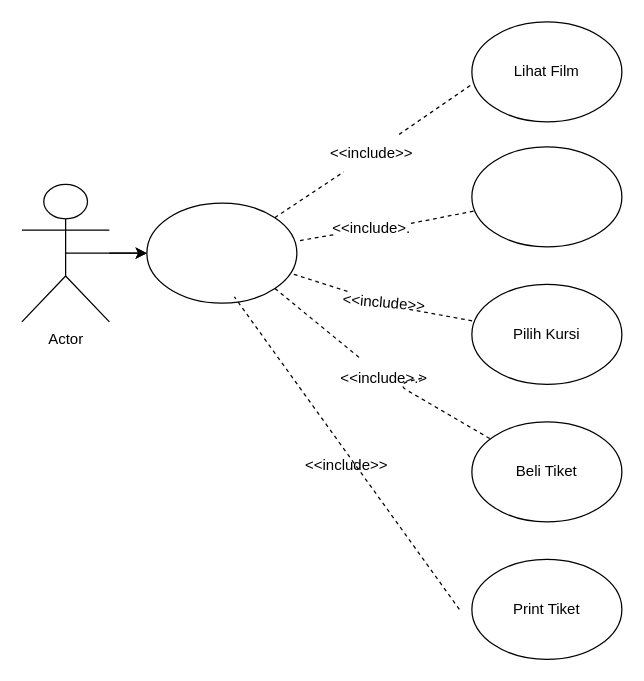
This 644x681 diagram has some shape labels left out. The centre of each missing label's shape, as x and y in pixels:
"Login, Guest" belongs at point 221,252.
"Pilih Film yang Tersedia" belongs at point 546,196.
